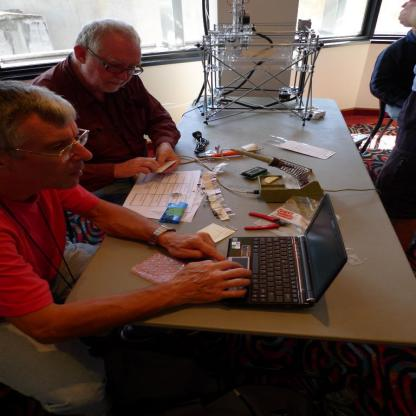board: (226, 194, 348, 314), (243, 210, 291, 230)
